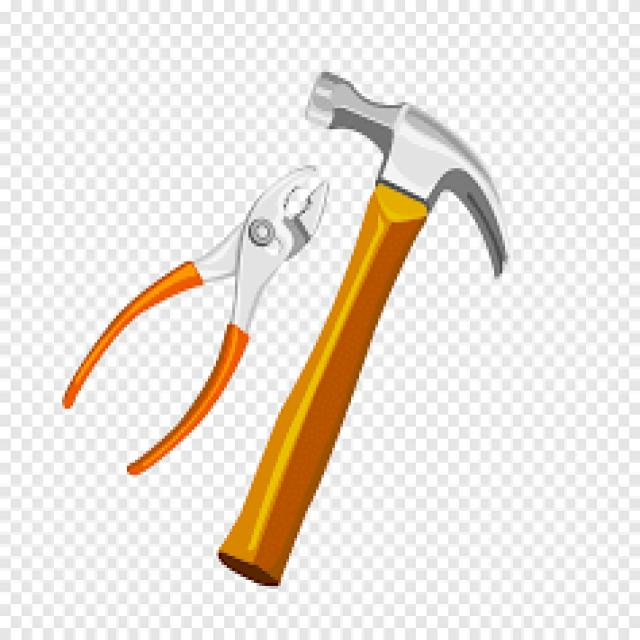hammer: (296, 50, 560, 514)
